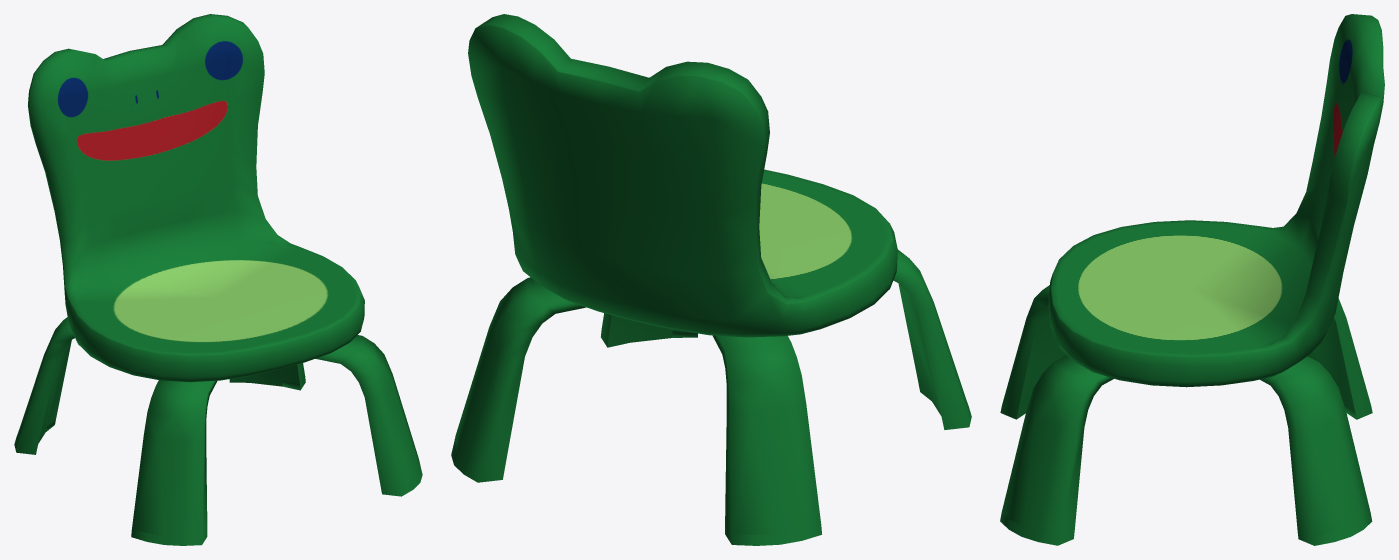
The model's file is froggychair.fbx.
The picture shows the model from 3 angles, left to right: view 1: azimuth 30°, elevation 25°; view 2: azimuth 150°, elevation 25°; view 3: azimuth 270°, elevation 25°; orthographic projection. The views are drawn at different scales.
Visible parts, largest first — view 1: FroggyChair; view 2: FroggyChair; view 3: FroggyChair.
Part boxes in pixels (bbox=[...]): FroggyChair: bbox=[14, 14, 422, 545]; FroggyChair: bbox=[451, 14, 971, 545]; FroggyChair: bbox=[1000, 14, 1384, 545].
Bounding box in the file's own units: 165 × 201 × 171.
